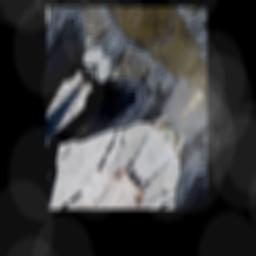Crow: (47, 25, 181, 195)
